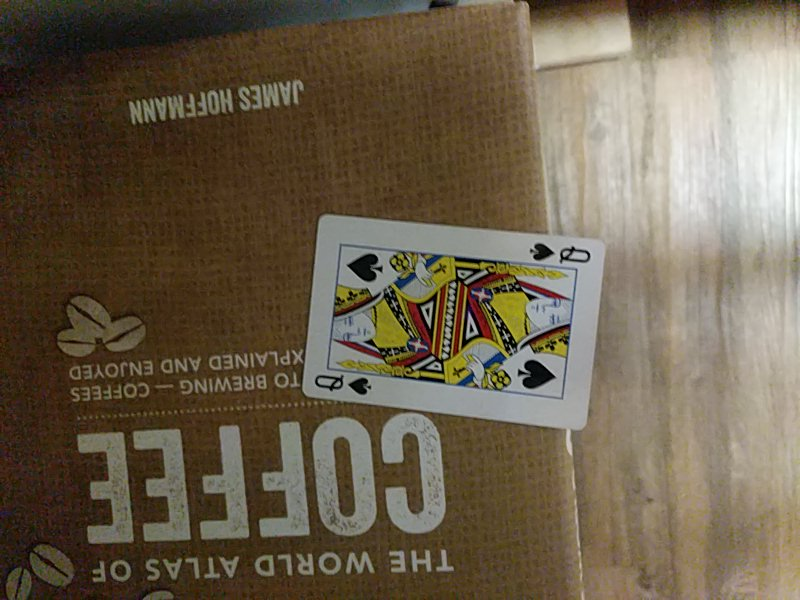Spades: (303, 216, 606, 435)
